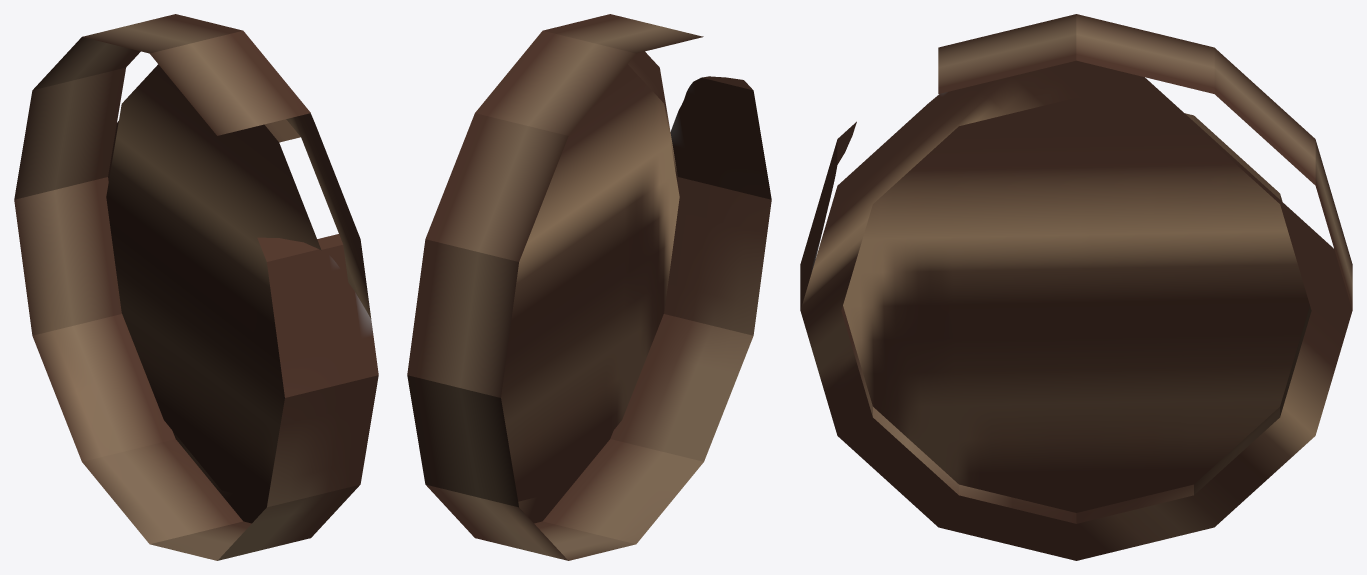
Rendered from clock.fbx.
The picture shows the model from 3 angles, left to right: view 1: azimuth 30°, elevation 25°; view 2: azimuth 150°, elevation 25°; view 3: azimuth 270°, elevation 25°; orthographic projection.
Visible parts, largest first — view 1: pCylinder33; view 2: pCylinder33; view 3: pCylinder33.
Part boxes in pixels (x1=…): pCylinder33: x1=14, y1=14, x2=378, y2=560; pCylinder33: x1=407, y1=14, x2=771, y2=560; pCylinder33: x1=800, y1=14, x2=1352, y2=560.
Size of the model in its own units: 0.1 by 0.5 by 0.5.
